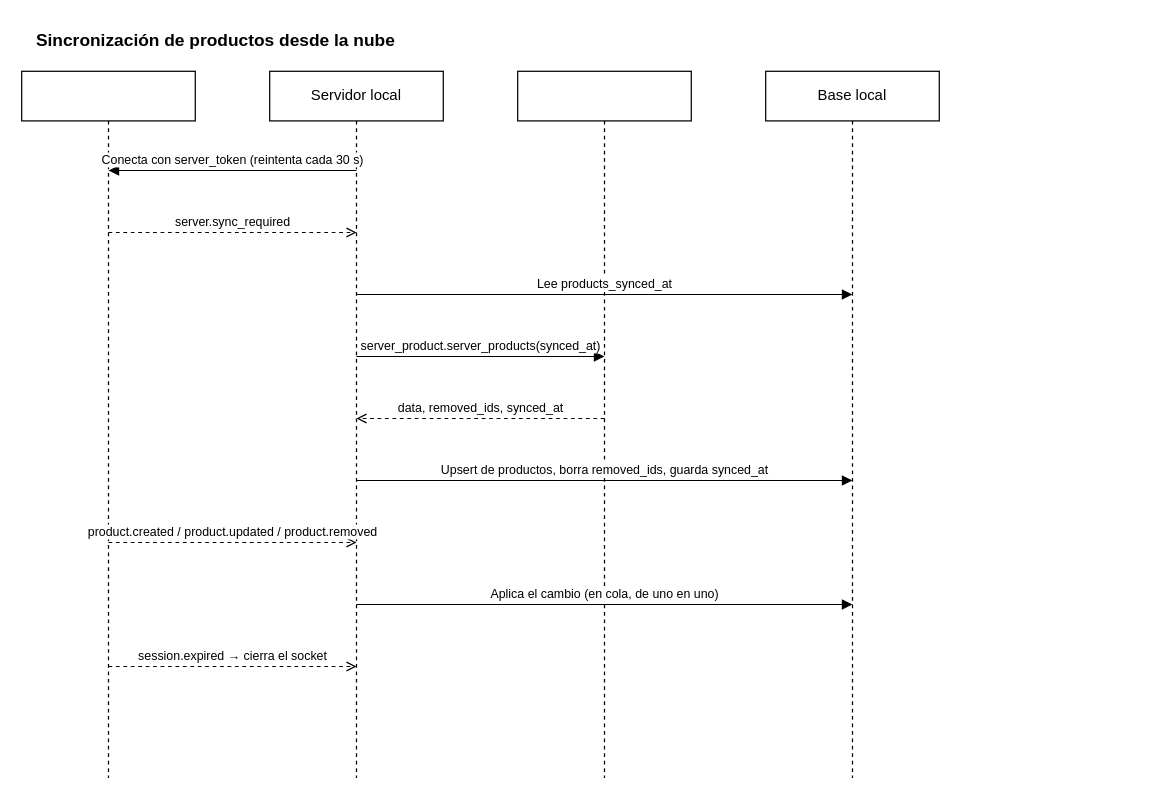
Some shapes in this 1172 by 800 pixel diagram are drawn without their labels. Here are the shapes that lost their labels. From the top down, the box of each, then its label:
(20, 70, 195, 778): Nube (socket)
(516, 70, 691, 778): Nube (gRPC)
